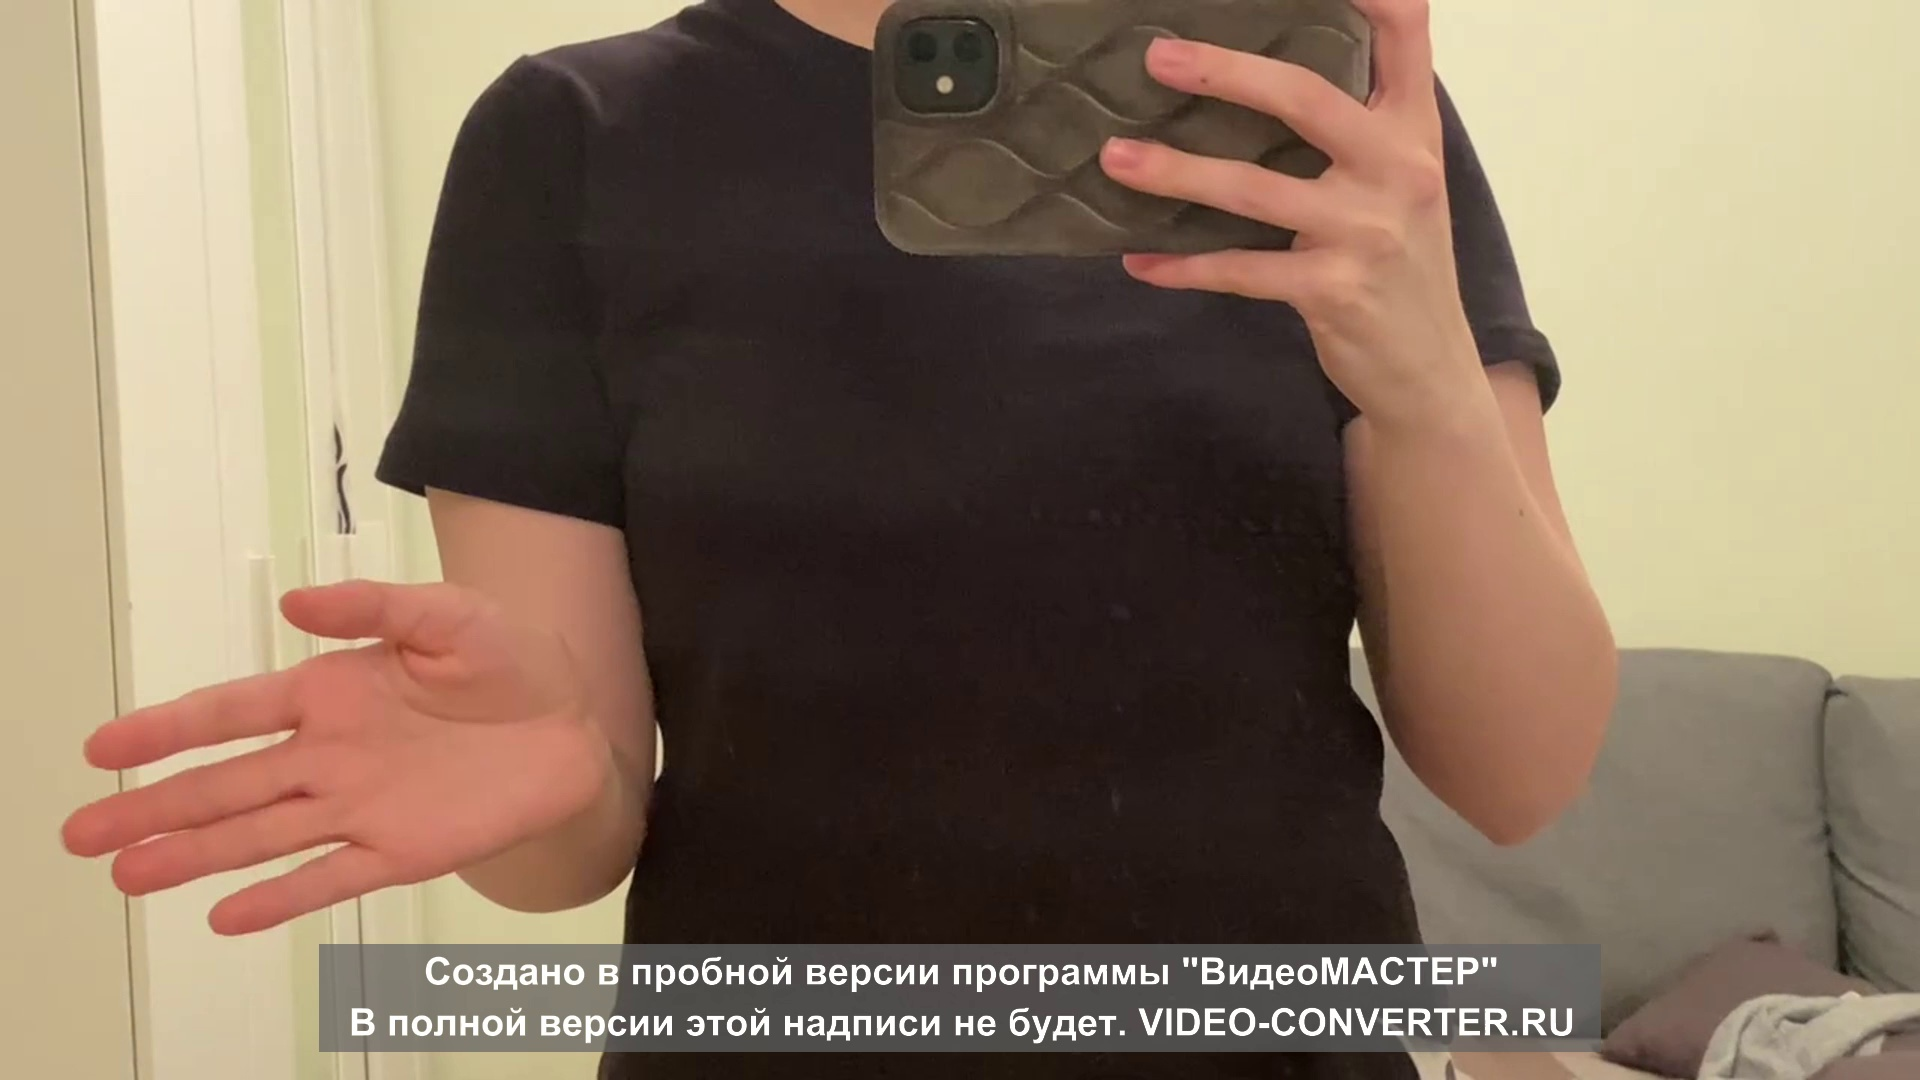Ладонь: (62, 580, 612, 935)
